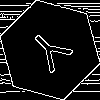Y: (25, 25, 81, 81)
